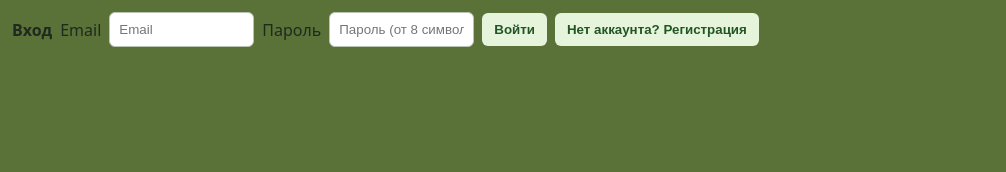
Форма входа — MSW › 401 показывает текст сервера и не создаёт сессию
Type "farmer@example.test" into the field labelled "Email". click: (182, 30)
box: [109,12,254,47]
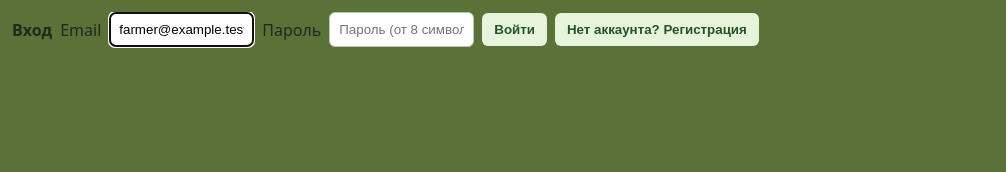
Type "wrong-password" into the password field labelled "Пароль". click: (402, 30)
box: [329,12,474,47]
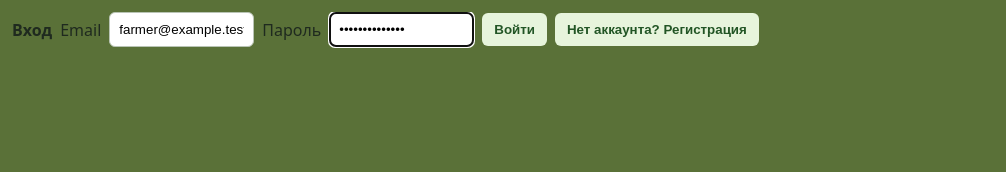
Click the button "Войти". click: (515, 30)
box: [482,13,547,46]
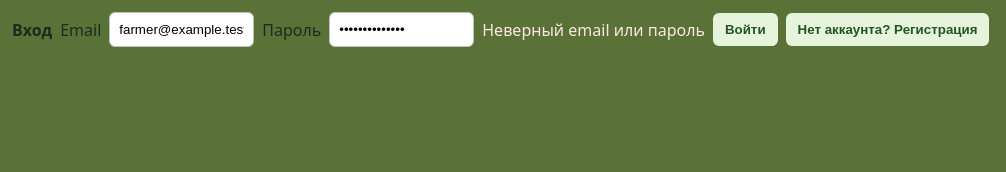
Now the message reads "Неверный email или пароль", box [482,18,705,40]
